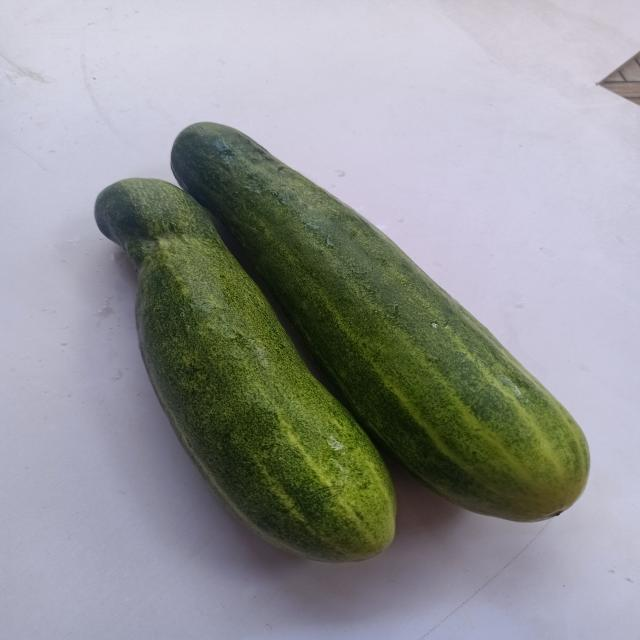Cucumber: (170, 122, 590, 523), (94, 178, 396, 563)
